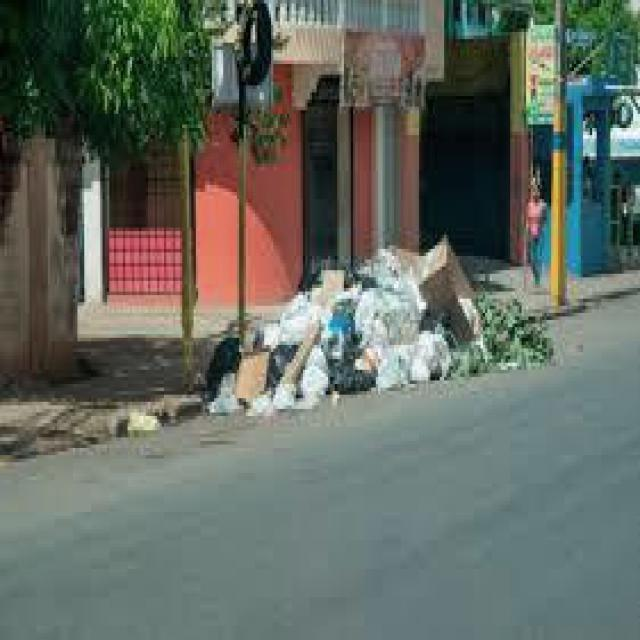garbage: (232, 242, 556, 426)
